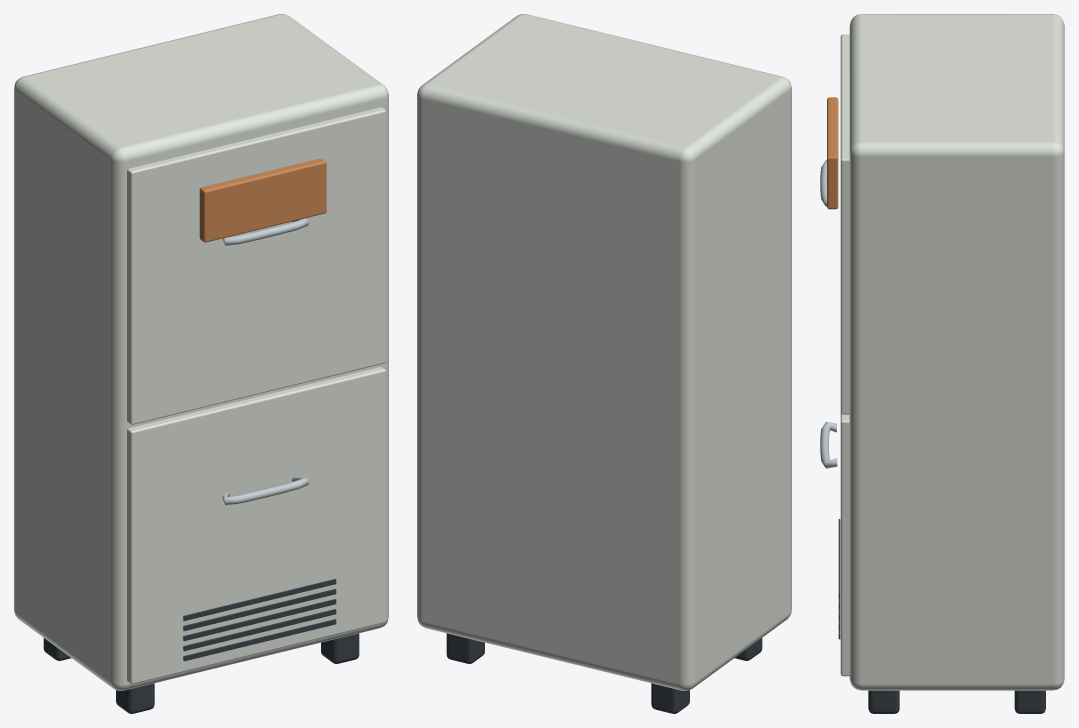
Rendered from abandoned-weather-station-and-storm-shelter-emergency--5943b1e9__31046.glb.
3 views of the same model, side by side, from view 1: azimuth 30°, elevation 25°; view 2: azimuth 150°, elevation 25°; view 3: azimuth 270°, elevation 25° (orthographic).
Visible parts, largest first — view 1: emergency-ration-locker; view 2: emergency-ration-locker; view 3: emergency-ration-locker.
Part boxes in pixels (bbox=[...]): emergency-ration-locker: bbox=[14, 14, 388, 713]; emergency-ration-locker: bbox=[417, 14, 791, 713]; emergency-ration-locker: bbox=[820, 14, 1064, 713].
Bounding box in the file's own units: 0.7201 × 1.43 × 0.5457.
